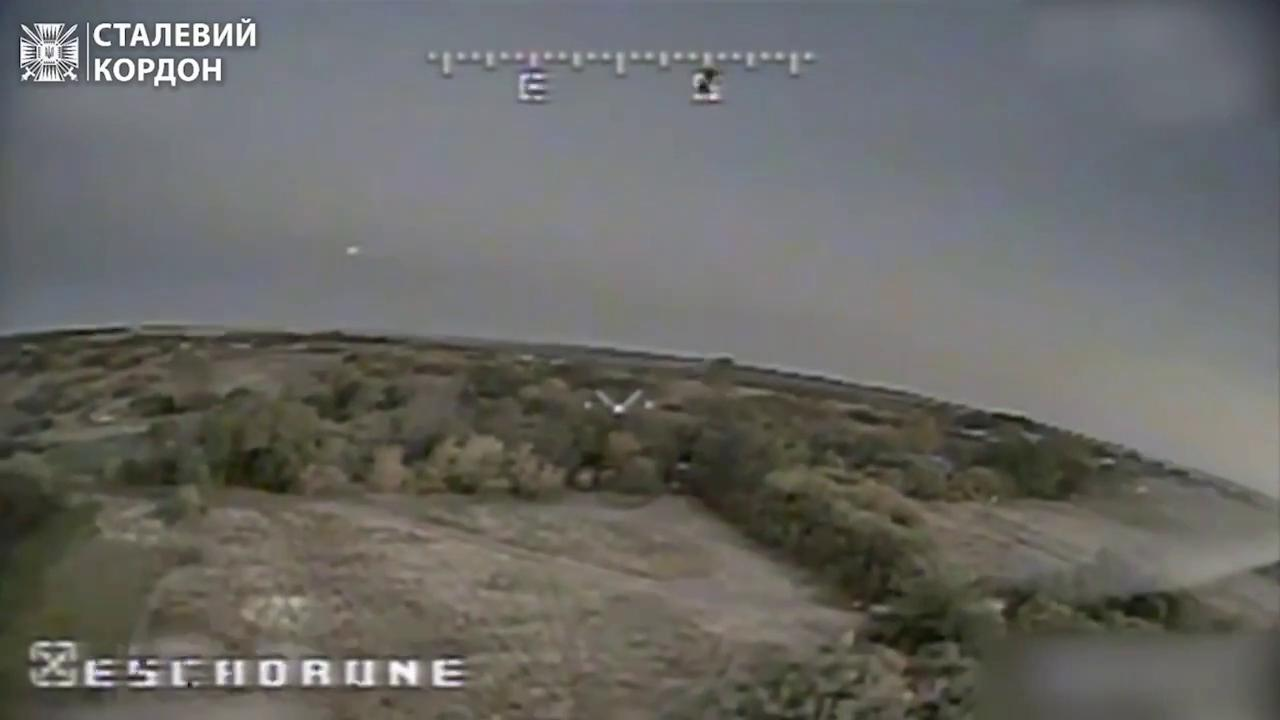tank: (552, 449, 620, 500)
